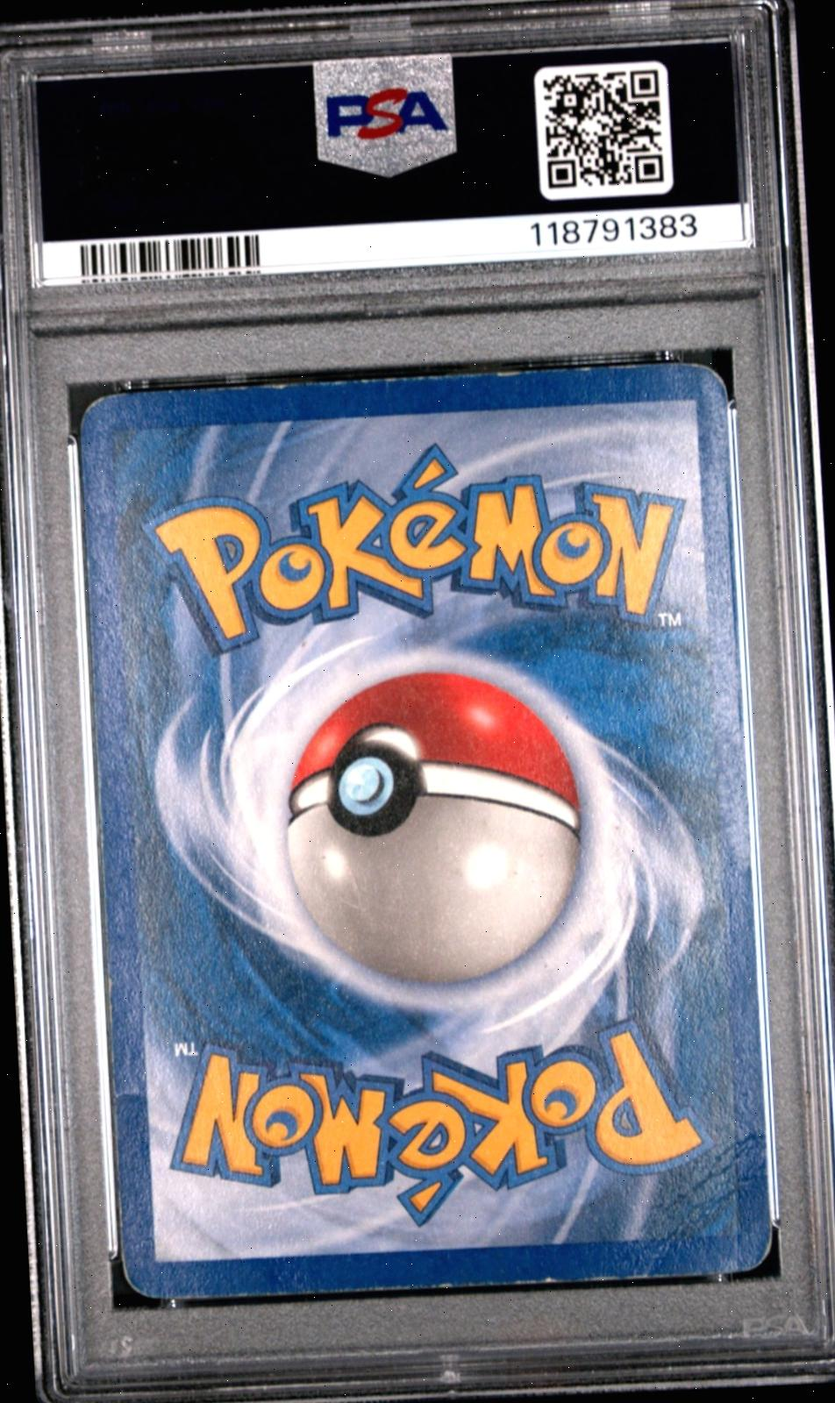card-2UtV: (79, 361, 773, 1300)
